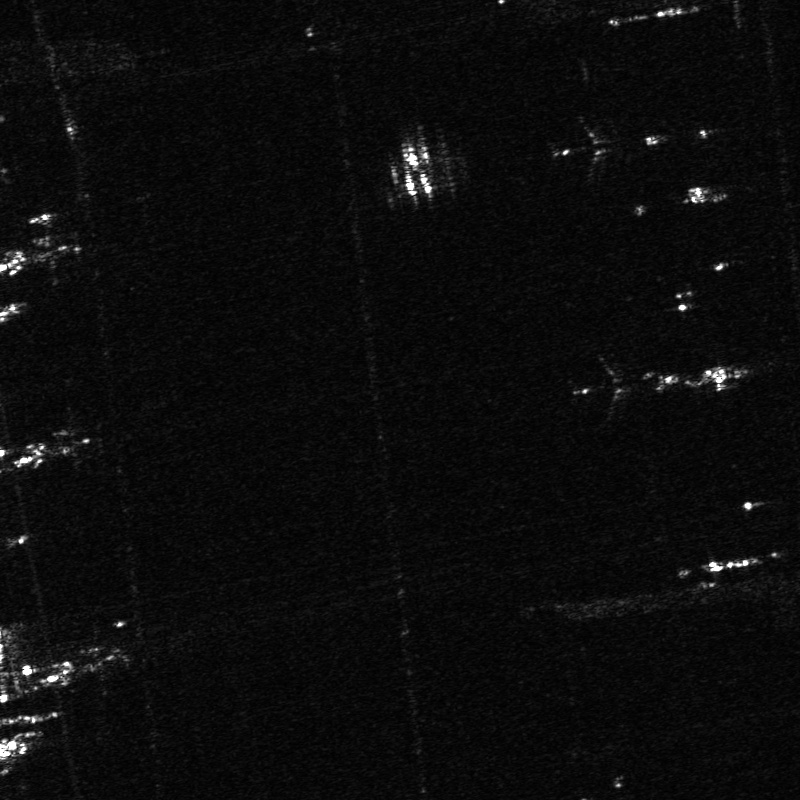Boeing737: (558, 350, 661, 433), (540, 105, 631, 187)
